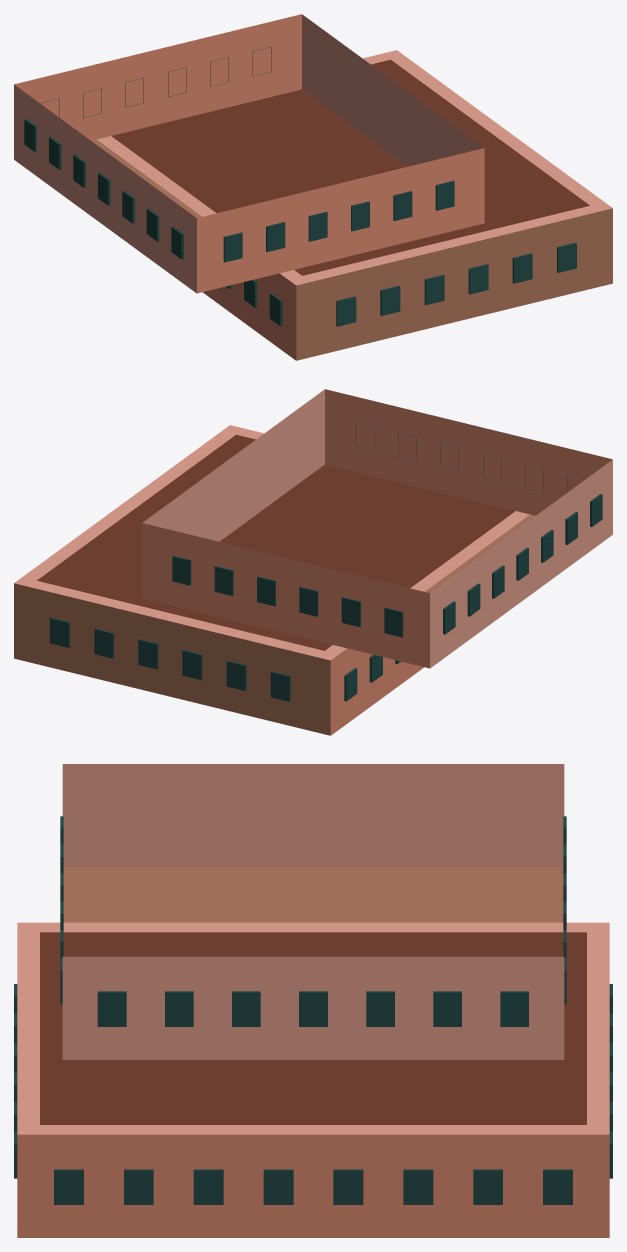
The model's file is TB_CITY_Skysc_S_Mid_Top_Brown.FBX.
The picture shows the model from 3 angles, top to bottom: view 1: azimuth 30°, elevation 25°; view 2: azimuth 150°, elevation 25°; view 3: azimuth 270°, elevation 25°; orthographic projection. The views are drawn at different scales.
Visible parts, largest first — view 1: TB_CITY_Skysc_S_Mid_Top_Brown; view 2: TB_CITY_Skysc_S_Mid_Top_Brown; view 3: TB_CITY_Skysc_S_Mid_Top_Brown.
Boxes of the visible parts, bbox=[...] form: TB_CITY_Skysc_S_Mid_Top_Brown: bbox=[14, 14, 612, 360]; TB_CITY_Skysc_S_Mid_Top_Brown: bbox=[14, 389, 612, 735]; TB_CITY_Skysc_S_Mid_Top_Brown: bbox=[14, 764, 612, 1237].
Bounding box in the file's own units: 28.07 × 10 × 26.28.
